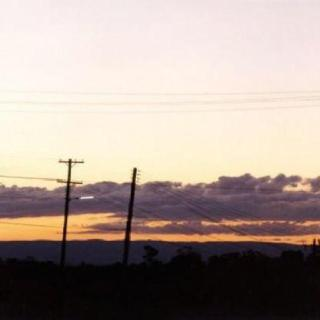Stratocumulus: (0, 171, 320, 243)
